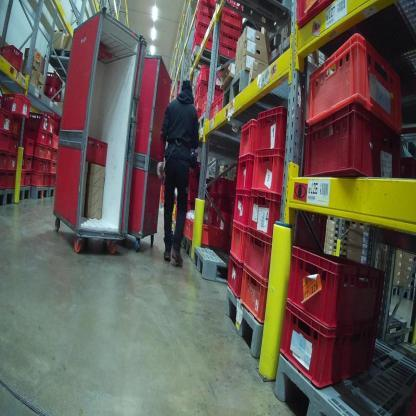pallets: (267, 329, 416, 416), (200, 61, 303, 133), (221, 293, 274, 369), (191, 237, 244, 294), (0, 182, 66, 215)
